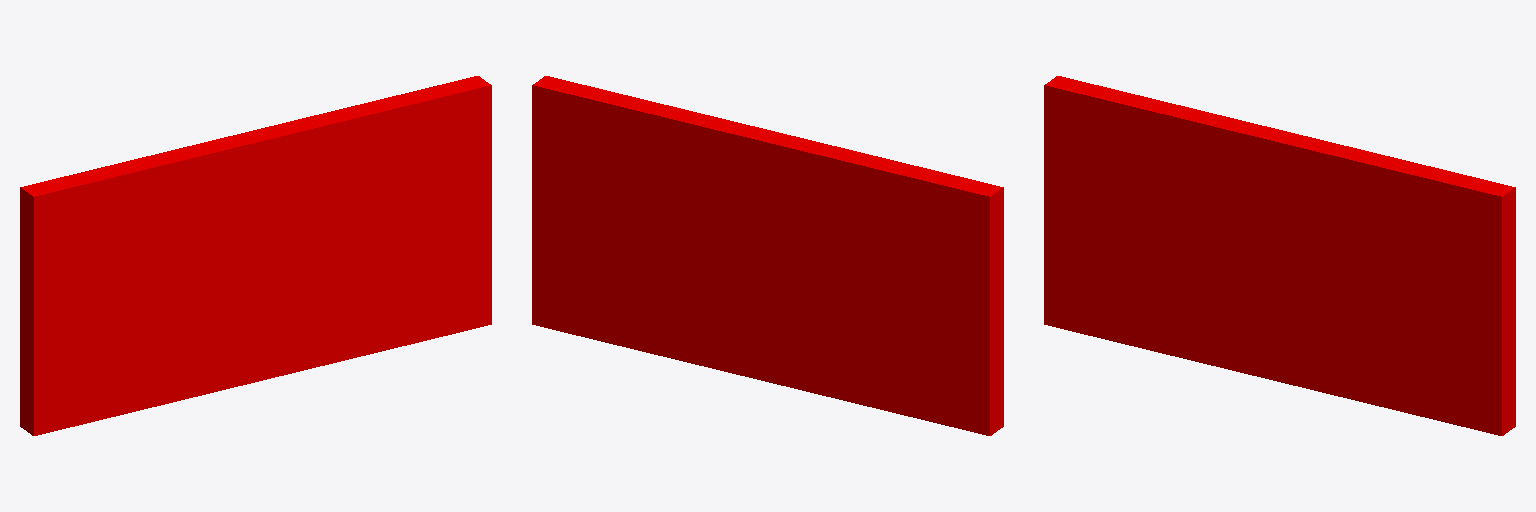
URDF robot description (left_wall):
<?xml version="1.0" ?>
<robot name="left_wall" xmlns:xacro="http://www.ros.org/wiki/xacro">
    <link name="wall_link">
        <inertial>
            <origin rpy="0 0 0" xyz="0 0 0"/>
            <mass value=".1"/>
            <inertia ixx="0" ixy="0" ixz="0" iyy="0" iyz="0" izz="0"/>
        </inertial>
        <visual>
            <origin rpy="0 0 0" xyz="0.5 0 0.25"/>
            <geometry>
                <box size="1.0 0.05 0.5"/>
            </geometry>
            <material name='red'>
                <color rgba="1.0 0.0 0.0 1.0"/>
            </material>
        </visual>
    </link>
</robot>

--- Render facts (derived) ---
Views: 3 orthographic renders of the robot side by side, from view 1: azimuth 30°, elevation 25°; view 2: azimuth 150°, elevation 25°; view 3: azimuth 330°, elevation 25°.
Model left_wall with 1 links and 0 joints (none), rooted at wall_link, posed every joint at zero.
Links seen in each view (by area): view 1: wall_link; view 2: wall_link; view 3: wall_link.
Boxes of the visible links, left/top/right/bottom form: wall_link: left=20, top=76, right=491, bottom=435; wall_link: left=532, top=76, right=1003, bottom=435; wall_link: left=1044, top=76, right=1515, bottom=435.
Size in the robot's own frame: 1 by 0.05 by 0.5 metres.
Geometry: primitives only (box / cylinder / sphere), no mesh files.